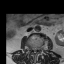CCS_normal: (34, 45, 35, 54)
LFS_stenosis: (37, 45, 39, 51)
LLS_stenosis: (35, 46, 37, 52)
RFS_stenosis: (30, 46, 32, 52)
RLS_stenosis: (32, 45, 34, 52)
